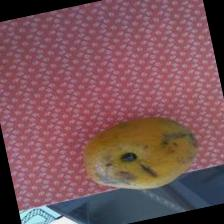Orange Rotten: (67, 100, 214, 216)
